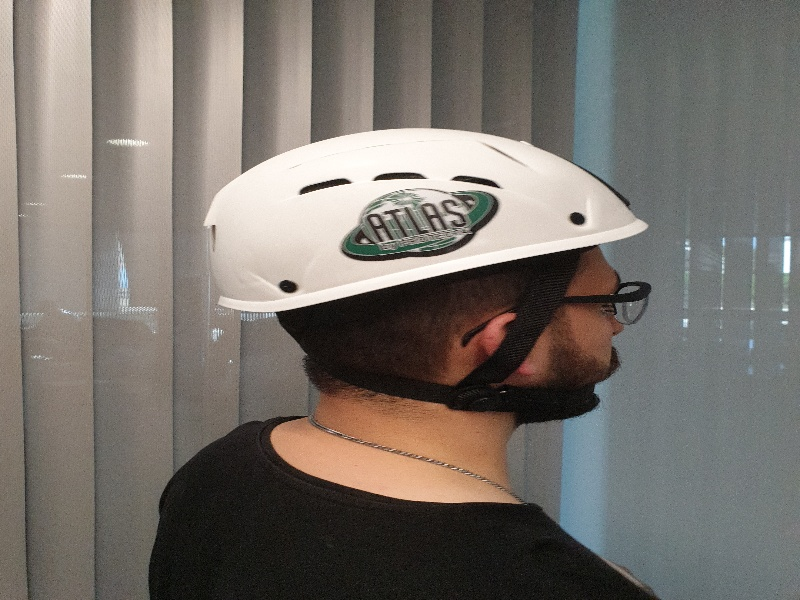Baret: (202, 127, 652, 286)
Gozluk: (494, 281, 652, 326)
